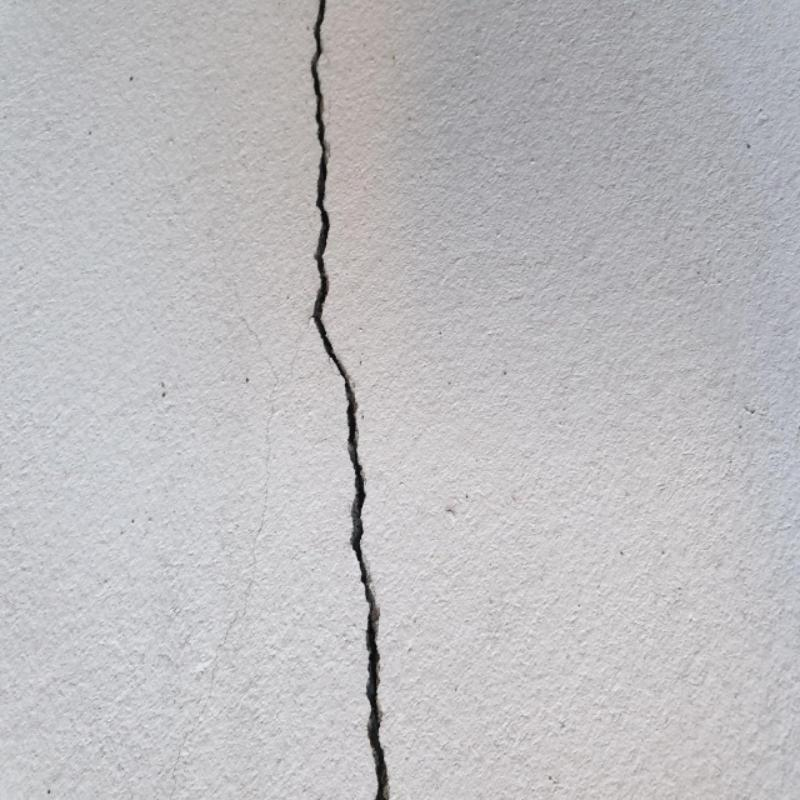pothole: (311, 1, 390, 799)
